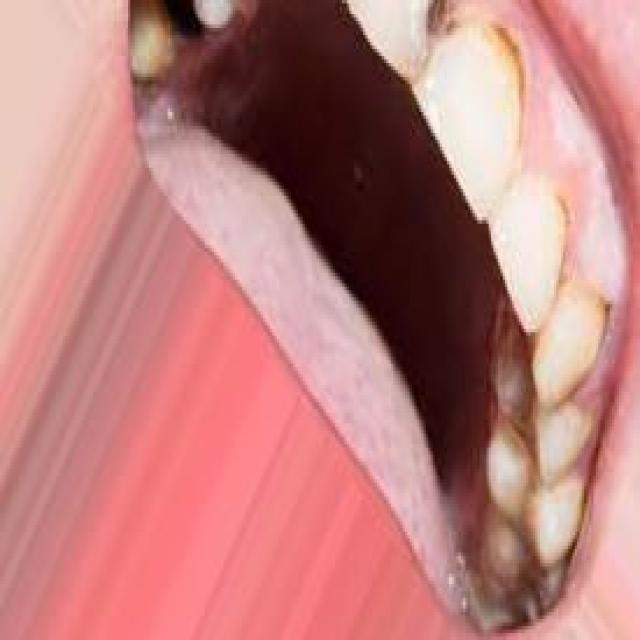caries: (144, 0, 216, 77)
